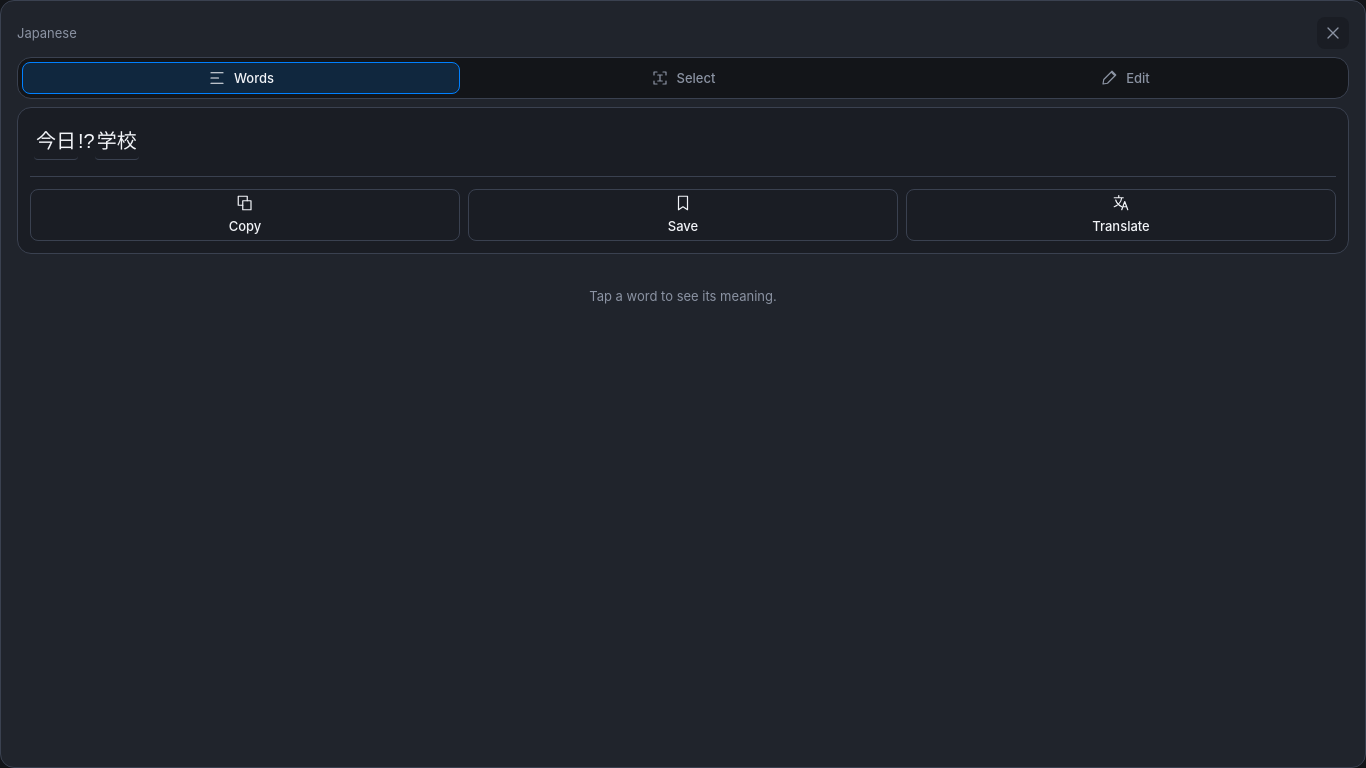
Test: keeps punctuation as sentence context but not as selectable words
This screenshot has width=1366, height=768.
Expected: the element with class "tokenization-text" reads "今日 !? 学校", [34, 124, 139, 160]
Click the button with class "tokenization-word" showing "学校". click: [117, 142]
box: [95, 124, 139, 160]
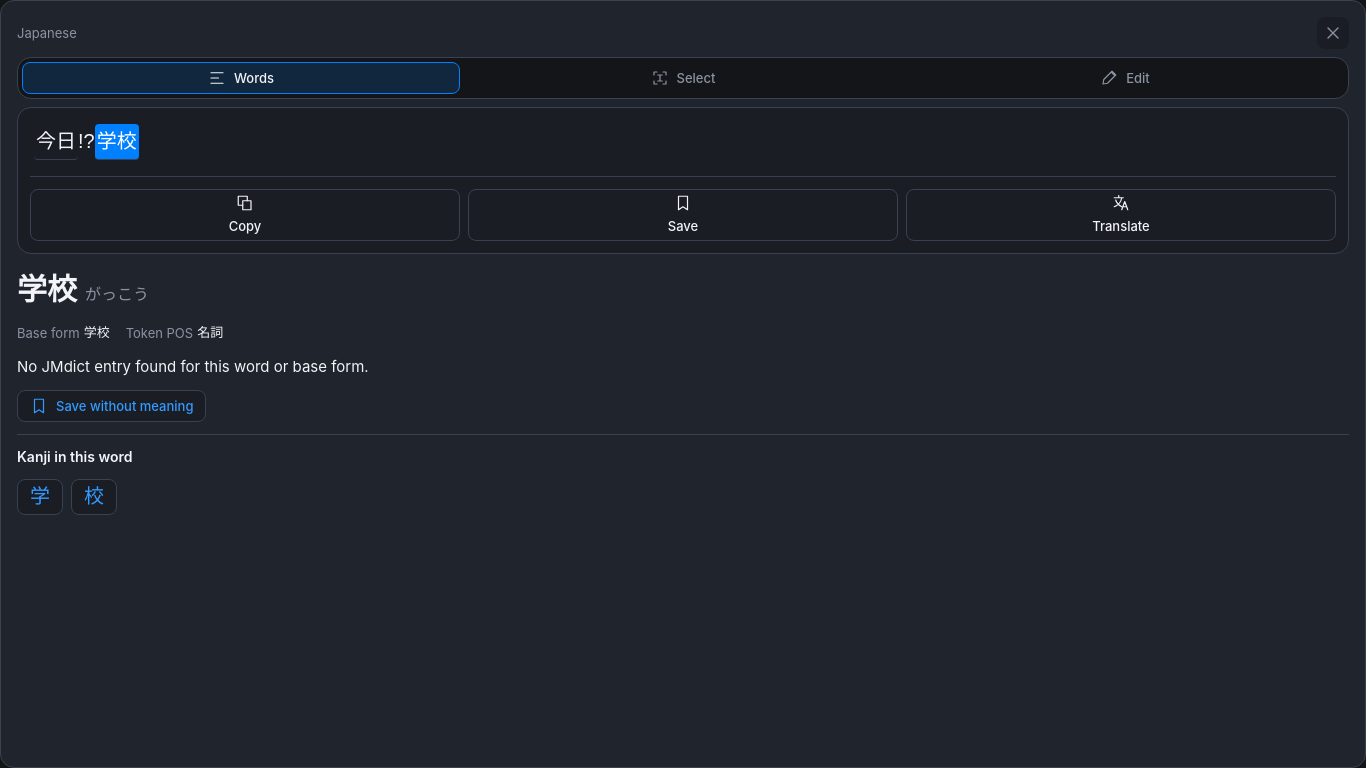
Expected: the text "がっこう" is shown, [85, 283, 149, 307]
Click the button with class "translate-button". click: [1121, 215]
box: [906, 189, 1336, 241]
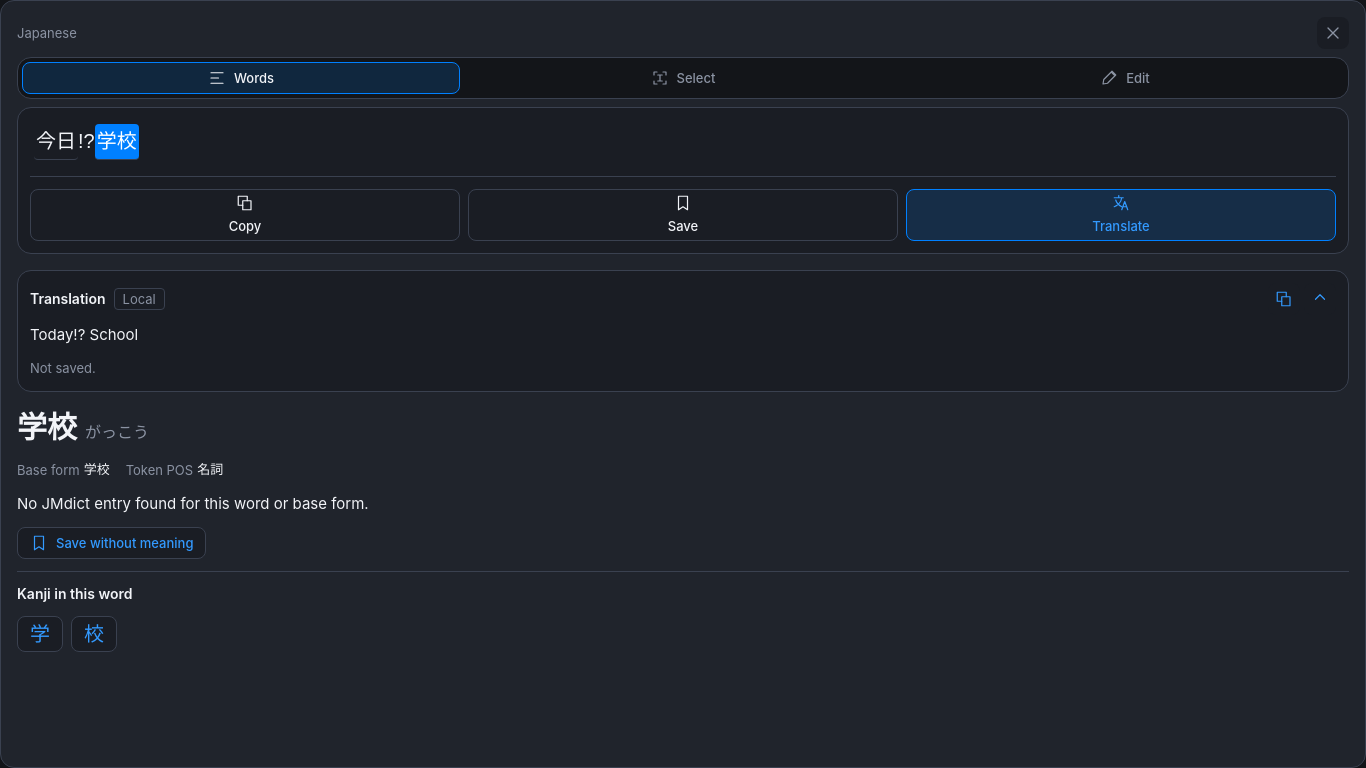
Expected: the text "Today!? School" is shown, [30, 325, 138, 344]
Click the button with class "save-word-button". click: [112, 543]
box: [17, 527, 206, 559]
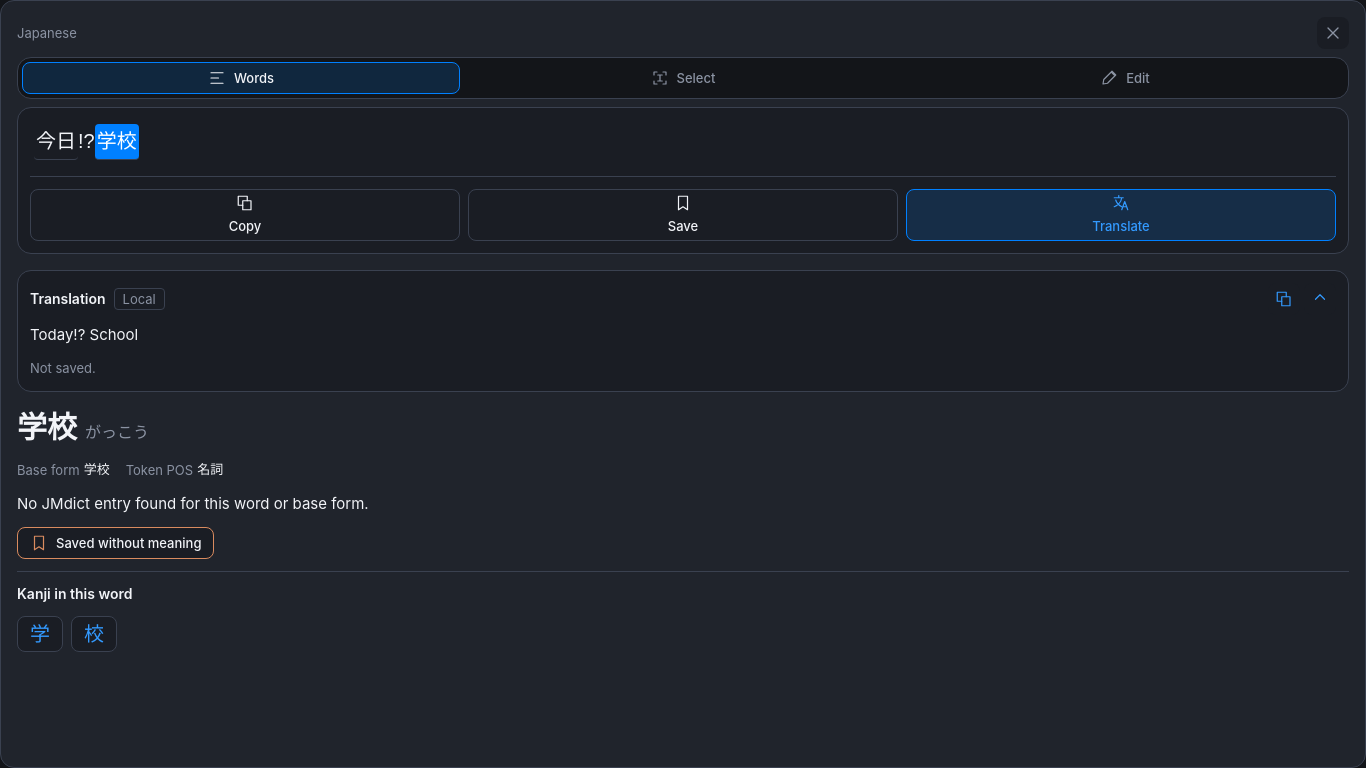
Expected: the text "Saved without meaning" is shown, [17, 527, 214, 559]
